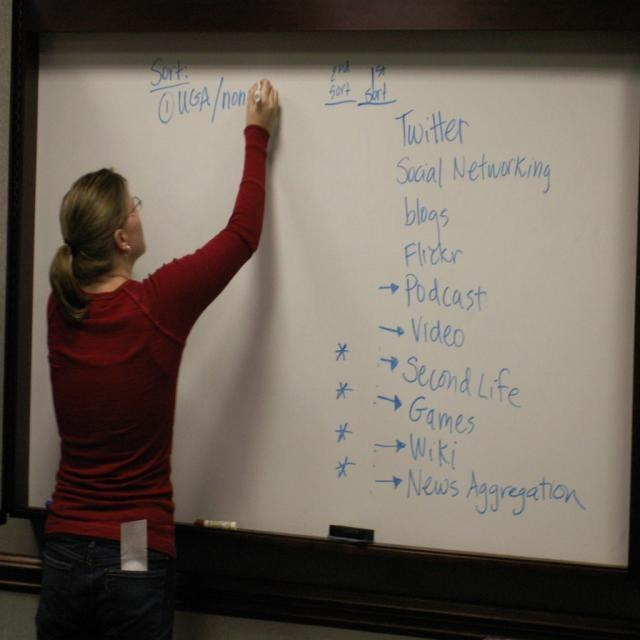Whiteboard: (27, 36, 639, 569)
